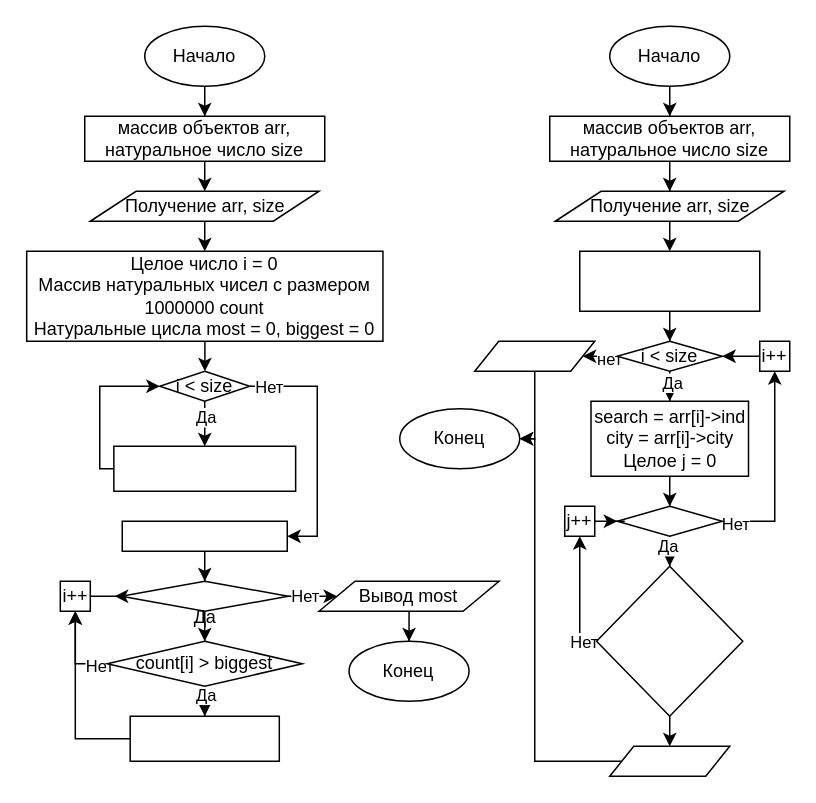
This 816x803 diagram has some shape labels left out. The shapes that lost their labels are listed below. From the top down, each one's centre as x and y in pixels, then its label:
At [669,280]: "Натуральное search Строка city Целове i = 0".
At [534,355]: "Вывод true".
At [204,468]: "++count[arr[i]->ind] i++".
At [204,535]: "Целое число i = 0".
At [669,520]: "j < size".
At [204,595]: "i < 1000000".
At [669,640]: "arr[j]->ind == search && strcmp(arr[j]->city, city) != 0".
At [204,738]: "biggest = count[i] most = i".
At [669,760]: "Вывод false".
